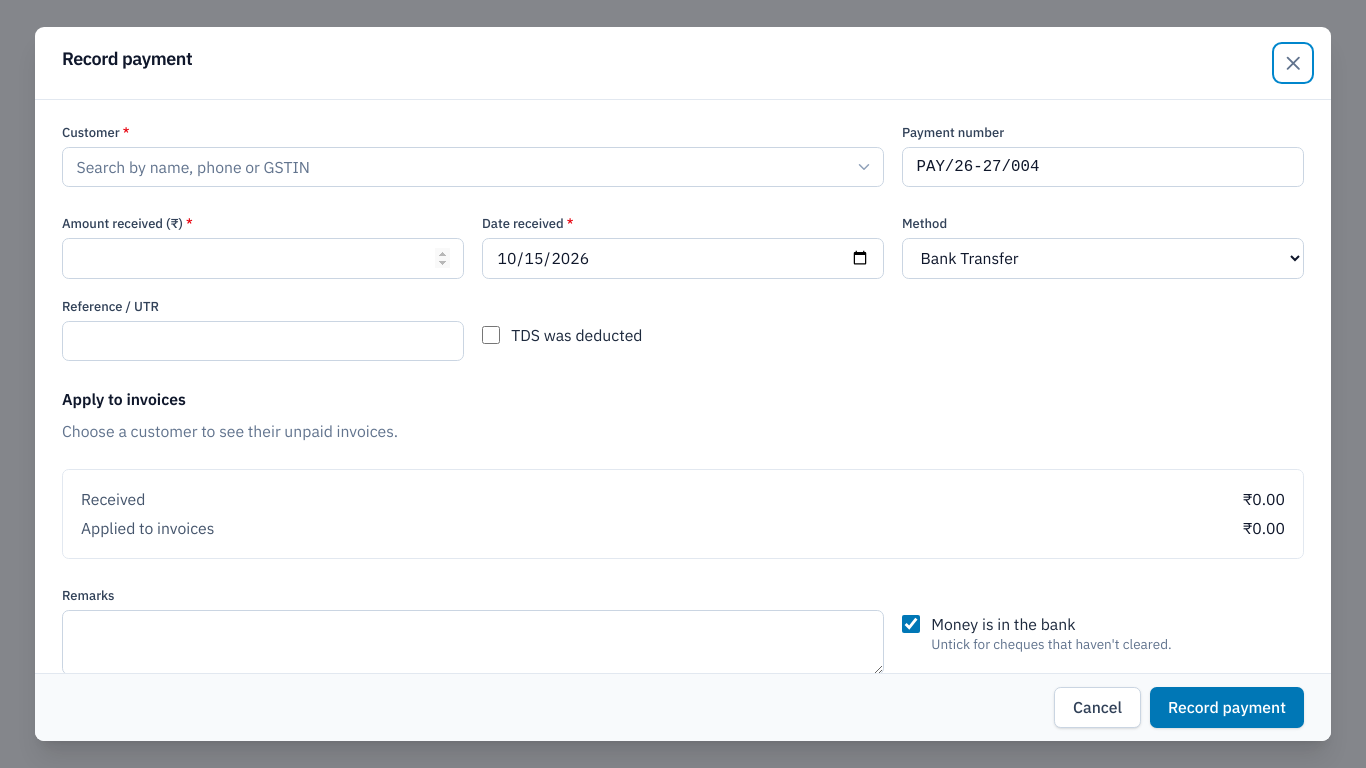
Test: recording a payment › says the money becomes an advance when nothing is owed
Click the dropdown named "Customer" at (473, 167), box [62, 146, 884, 187]
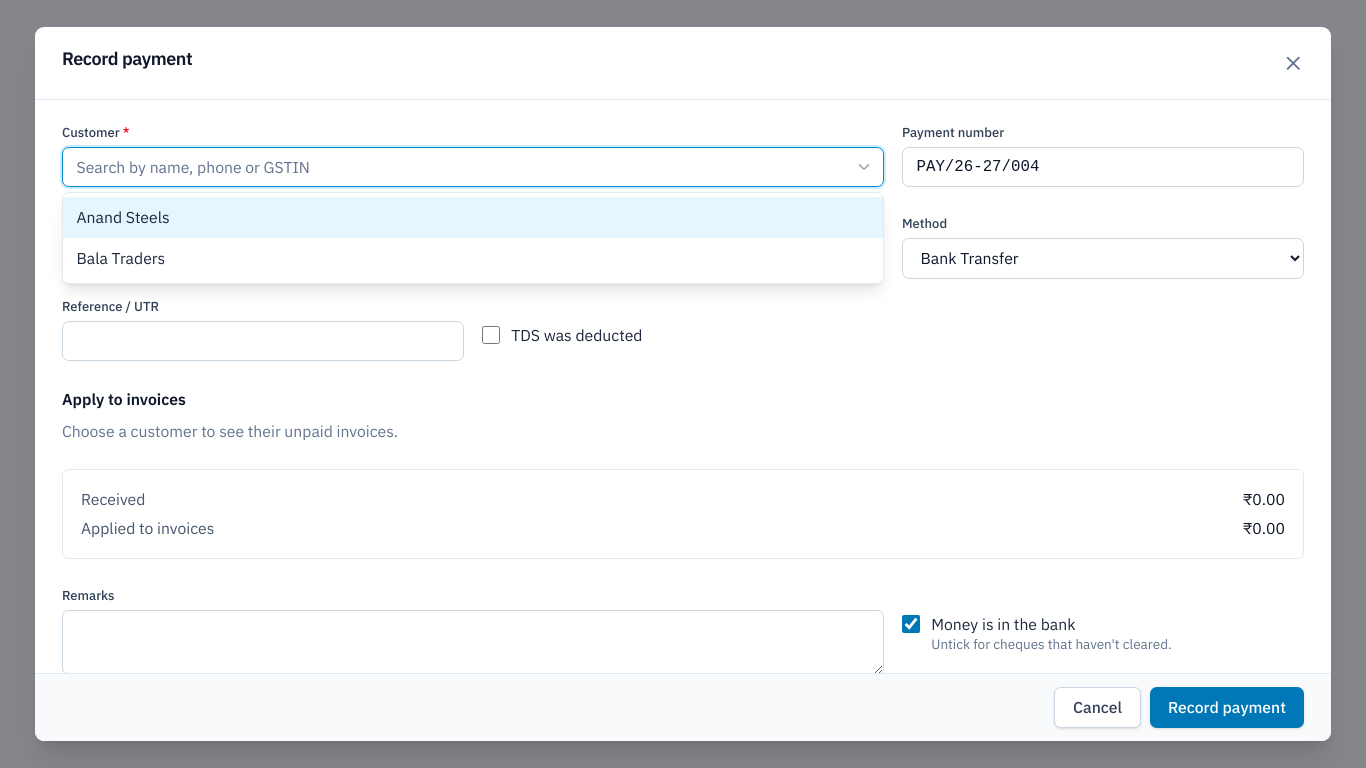
Click the option "Bala Traders" at (121, 258), box [76, 248, 165, 268]
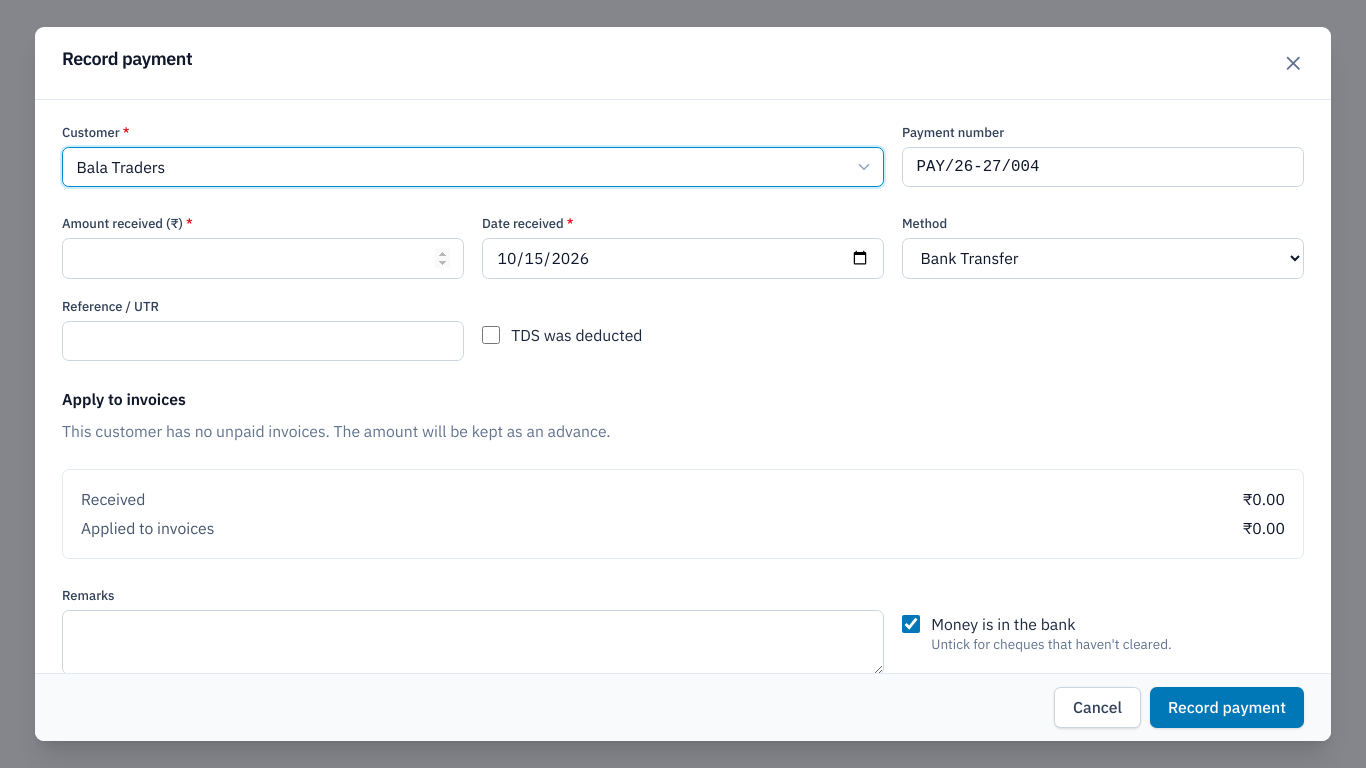
Expected: the heading "Apply to invoices" is shown, [62, 388, 186, 410]
Expected: the text "This customer has no unpaid invoices. The amount will be kept as an advance." is shown, [62, 420, 610, 440]
